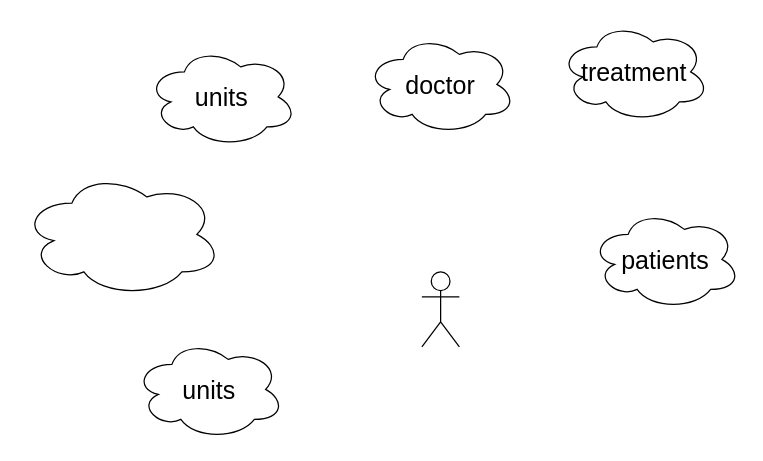
The diagram is 763 pixels wide and 461 high, and some of its shapes have lost their labels. The shapes that lost their labels are listed below. From the top down, each one's centre as x and y in pixels, then its label:
[121,234]: case history
[440,309]: Health Center
